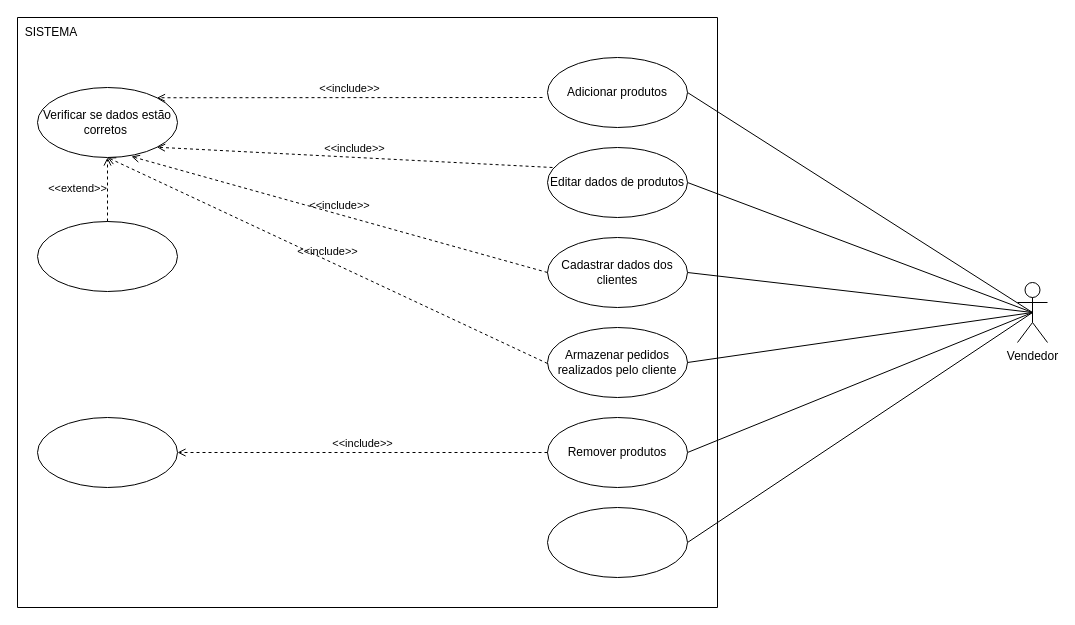
This 1075x625 diagram has some shape labels left out. Here are the shapes that lost their labels. From the top down, the centre of each, then its label:
At point (107, 256): "Retornar mensagem de erro caso os dados estejam inválidos".
At point (107, 452): "Verificar se o produto existe".
At point (617, 542): "Consultar estoque".
